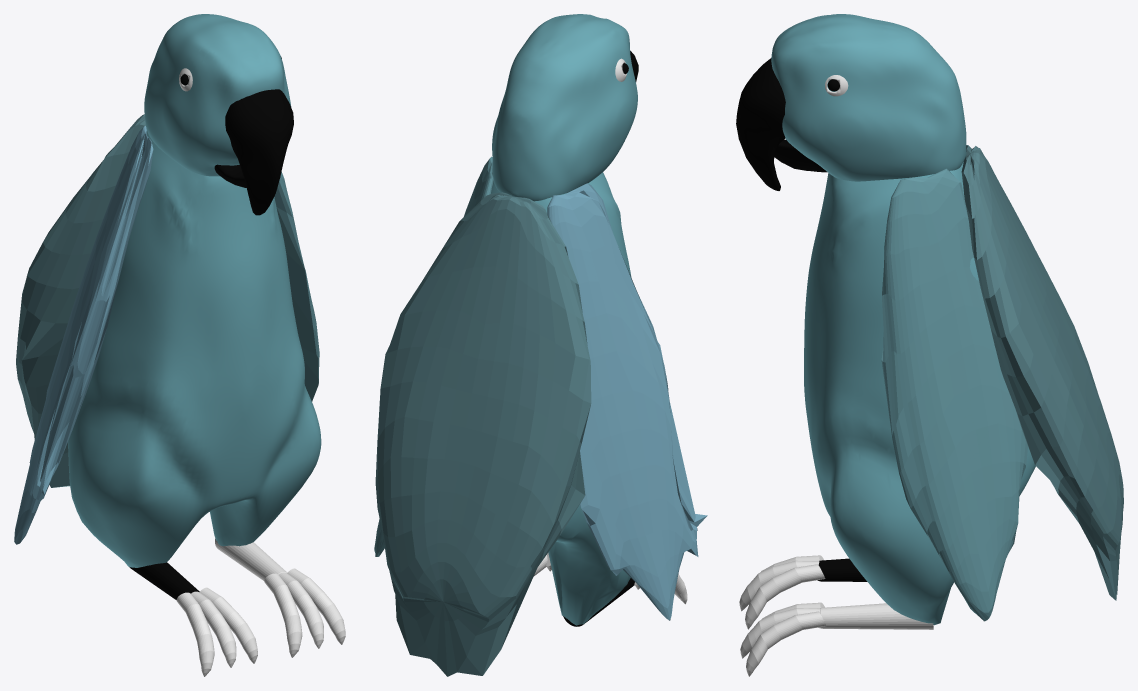
The model's file is arara.fbx.
3 renders of one model, left to right at view 1: azimuth 30°, elevation 25°; view 2: azimuth 150°, elevation 25°; view 3: azimuth 270°, elevation 25°, orthographic. The views are drawn at different scales.
Parts seen in each view (by area): view 1: Sphere.001, Sphere.005, Sphere.006, Sphere.002, Sphere.004, Cylinder.001, Cylinder.006, Cylinder.004, Cylinder.007, Cylinder.003, Cylinder, Cylinder.002 (+1 smaller); view 2: Sphere.006, Sphere.005, Sphere.001, Sphere.004; view 3: Sphere.001, Sphere.004, Sphere.006, Sphere.002, Cylinder.004, Cylinder.003, Cylinder.007, Cylinder.005, Cylinder.002, Cylinder, Sphere.003.
Boxes of the visible parts, x1,y1,x2,y2 form: Sphere.001: (68, 14, 321, 567); Sphere.005: (14, 126, 153, 544); Sphere.006: (16, 114, 145, 487); Sphere.002: (225, 89, 293, 215); Sphere.004: (274, 172, 319, 401); Cylinder.001: (176, 592, 214, 676); Cylinder.006: (264, 573, 302, 657); Cylinder.004: (215, 538, 287, 580); Cylinder.007: (287, 568, 345, 644); Cylinder.003: (199, 587, 257, 663); Cylinder: (129, 562, 199, 599); Cylinder.002: (191, 591, 236, 667); Sphere.006: (375, 192, 591, 676); Sphere.005: (547, 183, 707, 620); Sphere.001: (491, 14, 637, 625); Sphere.004: (374, 156, 493, 556); Sphere.001: (771, 14, 1035, 625); Sphere.004: (881, 168, 1027, 621); Sphere.006: (961, 145, 1123, 600); Sphere.002: (736, 58, 785, 190); Cylinder.004: (818, 603, 933, 629); Cylinder.003: (745, 564, 825, 629); Cylinder.007: (746, 611, 825, 676); Cylinder.005: (740, 608, 820, 658); Cylinder.002: (739, 560, 819, 611); Cylinder: (817, 558, 867, 581); Sphere.003: (774, 139, 827, 172).
Size of the model in its own units: 501 by 983 by 556.
